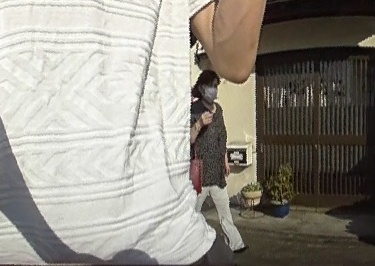person: (189, 67, 249, 254)
